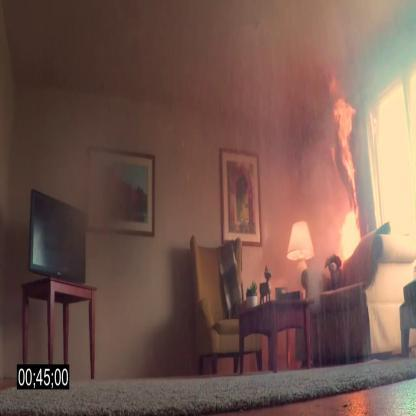fire: (323, 87, 380, 260)
smoke: (281, 221, 318, 267)
